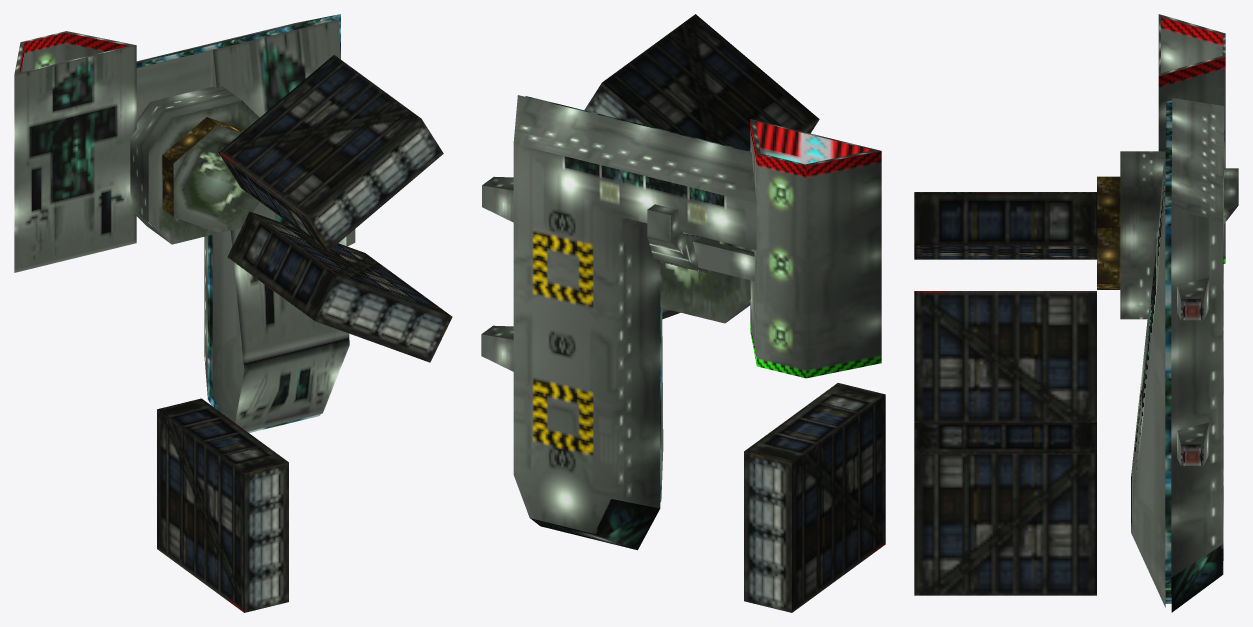
The picture shows the model from 3 angles, left to right: view 1: azimuth 30°, elevation 25°; view 2: azimuth 150°, elevation 25°; view 3: azimuth 270°, elevation 25°; orthographic projection. The views are drawn at different scales.
Visible parts, largest first — view 1: frm-docbay, frm-platfm2, frm-fuselg3, frm-fuselg5, frm-fuselg4, frm-platfm3, frm-ffuselg, frm-fuselg; view 2: frm-fuselg, frm-docbay, frm-fuselg5, frm-fuselg3, frm-platfm3, frm-tcontwr, frm-corrdr, frm-hubcon1, frm-hubcon2; view 3: frm-fuselg4, frm-fuselg, frm-fuselg5, frm-fuselg3, frm-platfm2, frm-platfm3, frm-docbay, frm-ffuselg, frm-hubcon1, frm-hubcon2, frm-tcontwr.
Part boxes in pixels (<box>): frm-docbay: <box>14,31,136,272</box>; frm-platfm2: <box>212,19,349,431</box>; frm-fuselg3: <box>219,55,443,251</box>; frm-fuselg5: <box>157,398,288,612</box>; frm-fuselg4: <box>227,211,452,362</box>; frm-platfm3: <box>130,86,259,244</box>; frm-ffuselg: <box>162,117,256,232</box>; frm-fuselg: <box>136,14,340,432</box>; frm-fuselg: <box>513,95,756,550</box>; frm-docbay: <box>750,119,881,378</box>; frm-fuselg5: <box>744,383,885,612</box>; frm-fuselg3: <box>584,14,819,150</box>; frm-platfm3: <box>660,232,751,323</box>; frm-tcontwr: <box>647,204,720,276</box>; frm-corrdr: <box>693,238,754,281</box>; frm-hubcon1: <box>481,325,513,371</box>; frm-hubcon2: <box>482,176,513,222</box>; frm-fuselg4: <box>914,291,1096,453</box>; frm-fuselg: <box>1165,98,1224,612</box>; frm-fuselg5: <box>914,453,1096,595</box>; frm-fuselg3: <box>914,192,1096,259</box>; frm-platfm2: <box>1131,145,1165,607</box>; frm-platfm3: <box>1120,151,1164,319</box>; frm-docbay: <box>1158,14,1225,263</box>; frm-ffuselg: <box>1097,176,1120,289</box>; frm-hubcon1: <box>1177,422,1209,465</box>; frm-hubcon2: <box>1177,277,1209,320</box>; frm-tcontwr: <box>1223,168,1238,224</box>.
Size of the model in its own units: 89.93 by 117 by 68.74.
